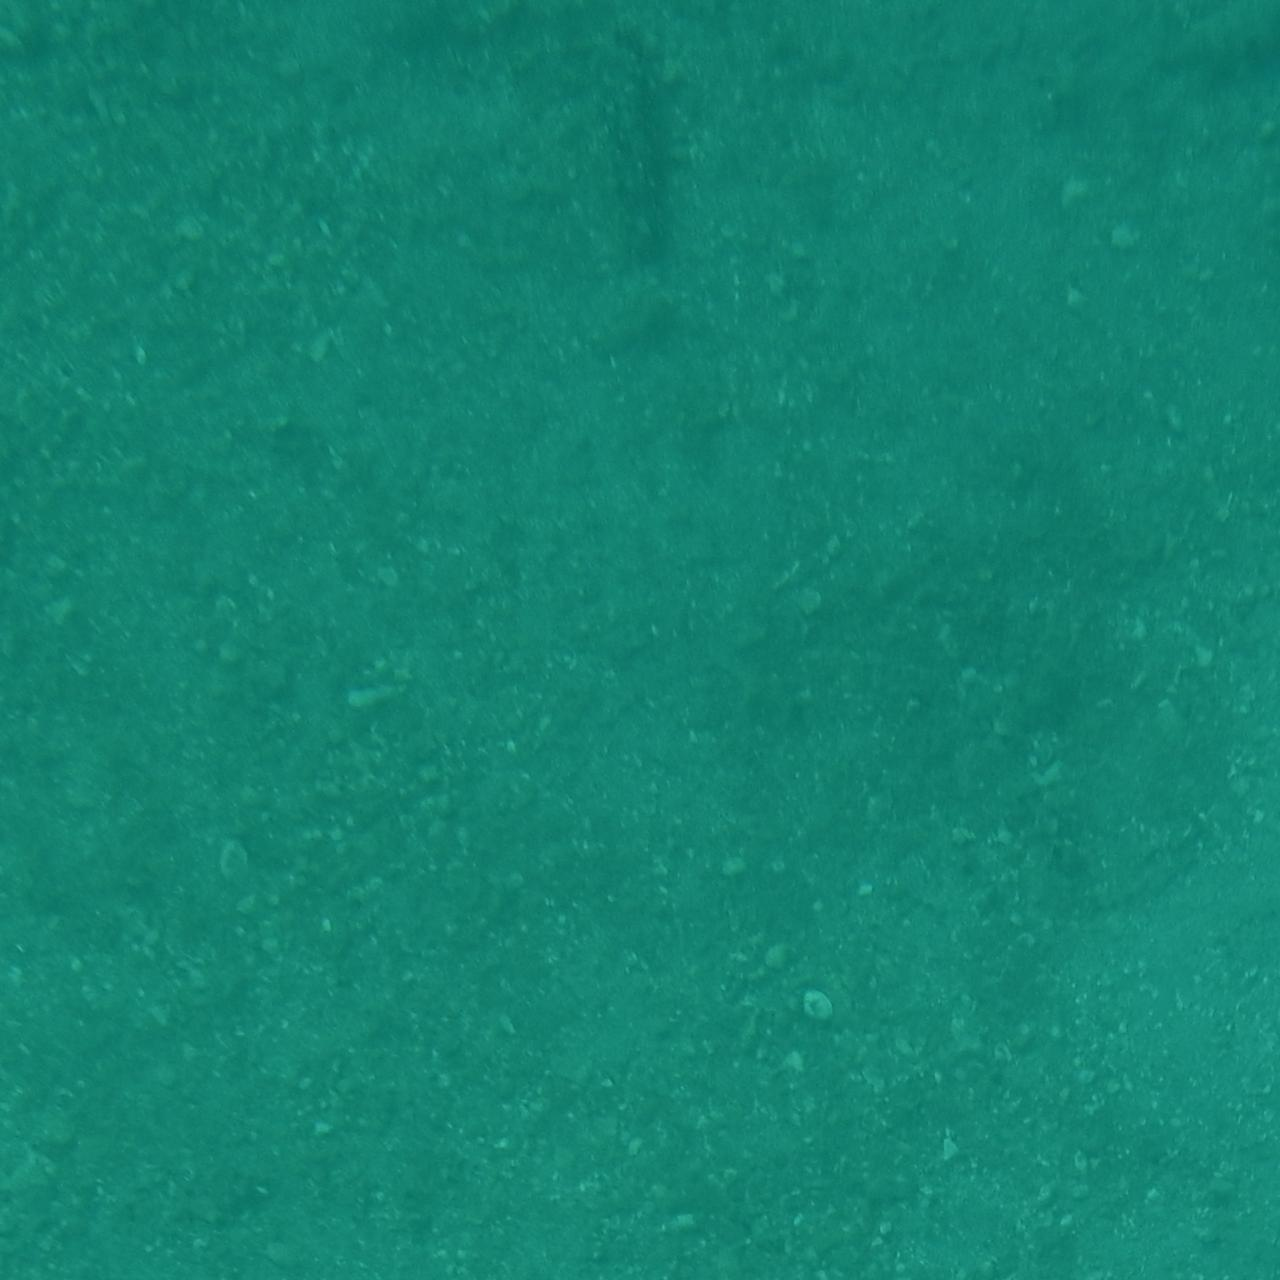Holothuria tubulosa: (574, 20, 706, 300)
